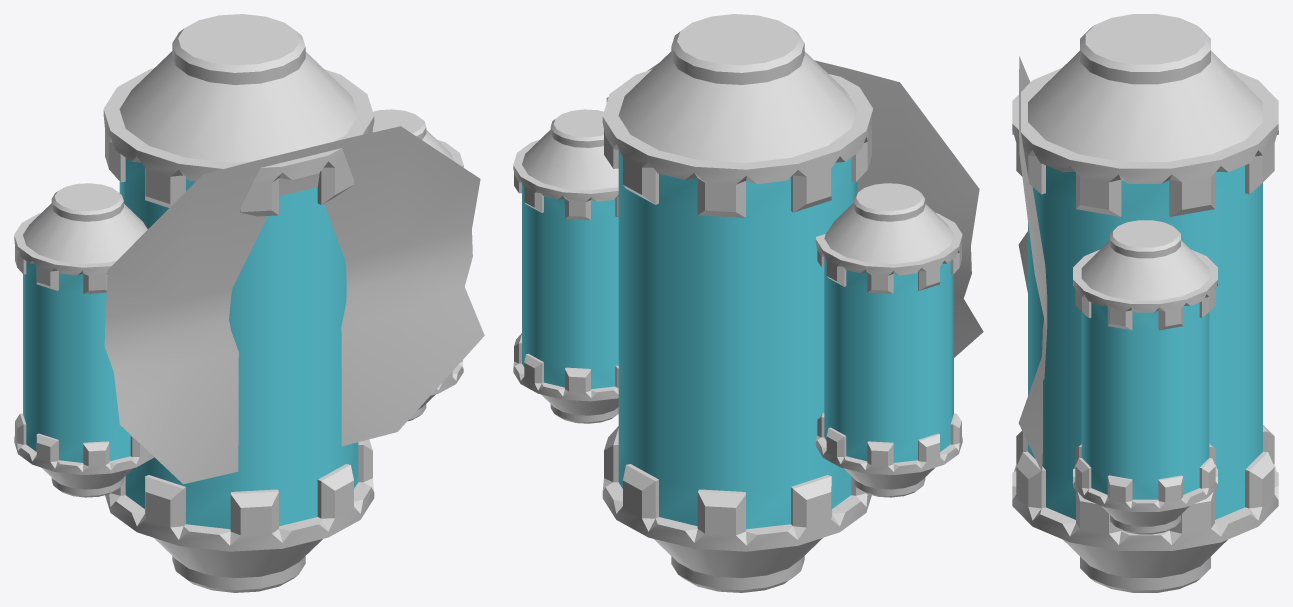
The model's file is Mod_Backplate_Snail2.fbx.
3 renders of one model, left to right at view 1: azimuth 30°, elevation 25°; view 2: azimuth 150°, elevation 25°; view 3: azimuth 270°, elevation 25°, orthographic.
Parts seen in each view (by area): view 1: Mod_BackPlate_Snail2; view 2: Mod_BackPlate_Snail2; view 3: Mod_BackPlate_Snail2.
Boxes of the visible parts, box(x1,y1,x2,y2) form: Mod_BackPlate_Snail2: box(14, 14, 484, 592); Mod_BackPlate_Snail2: box(513, 14, 983, 592); Mod_BackPlate_Snail2: box(1012, 14, 1278, 592).
Size of the model in its own units: 374 by 441 by 202.
